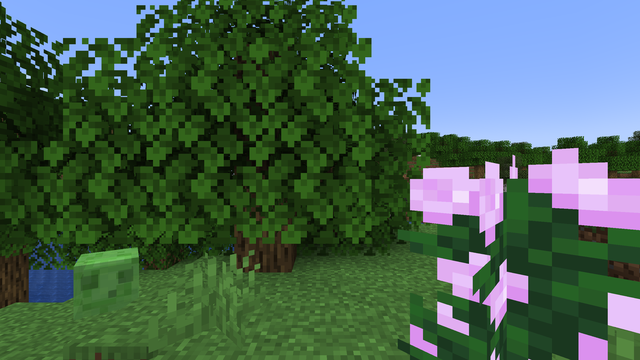slimes: (60, 247, 149, 314)
